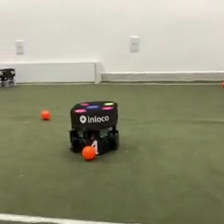ball: (80, 142, 98, 161), (40, 108, 51, 121)
goal: (1, 60, 105, 85)
robot: (66, 98, 122, 157), (1, 65, 18, 88)
